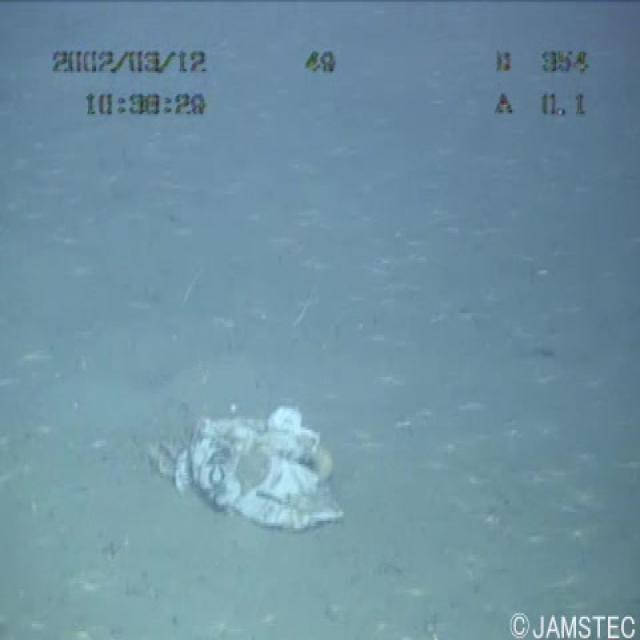plastic: (136, 387, 353, 553)
